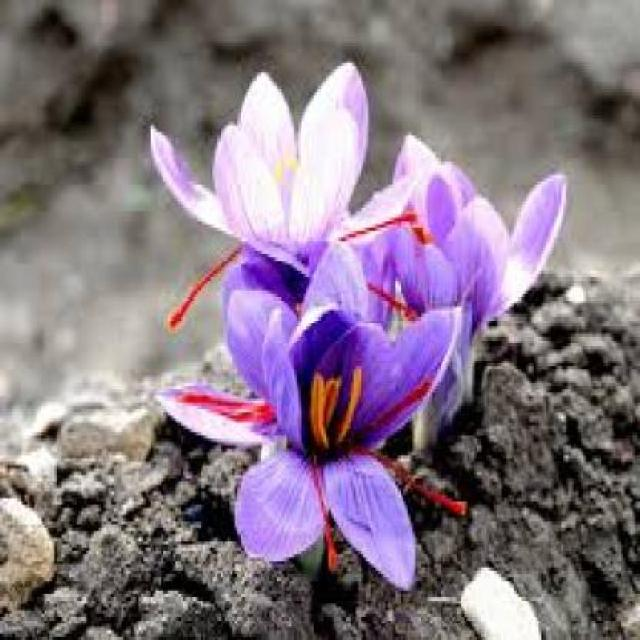Flower: (172, 247, 456, 579), (134, 60, 378, 288), (390, 152, 573, 356)
stigma: (161, 242, 258, 332), (372, 447, 475, 523), (304, 468, 343, 572), (332, 209, 451, 242), (377, 372, 442, 431), (178, 389, 274, 426)
